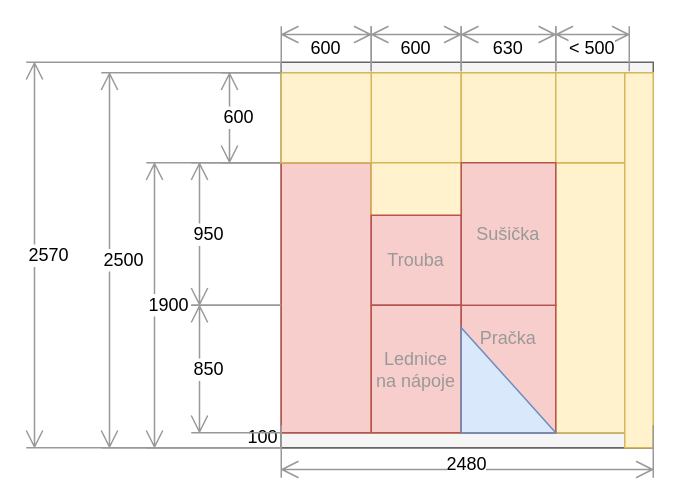
Some shapes in this 680 by 504 pixel diagram are drawn without their labels. Here are the shapes that lost their labels. From the top down, the centre of each, then its label:
At [415,192]: "Mikrovlnka".
At [325,297]: "Mrazák".
At [589,297]: "Úklidová komora".
